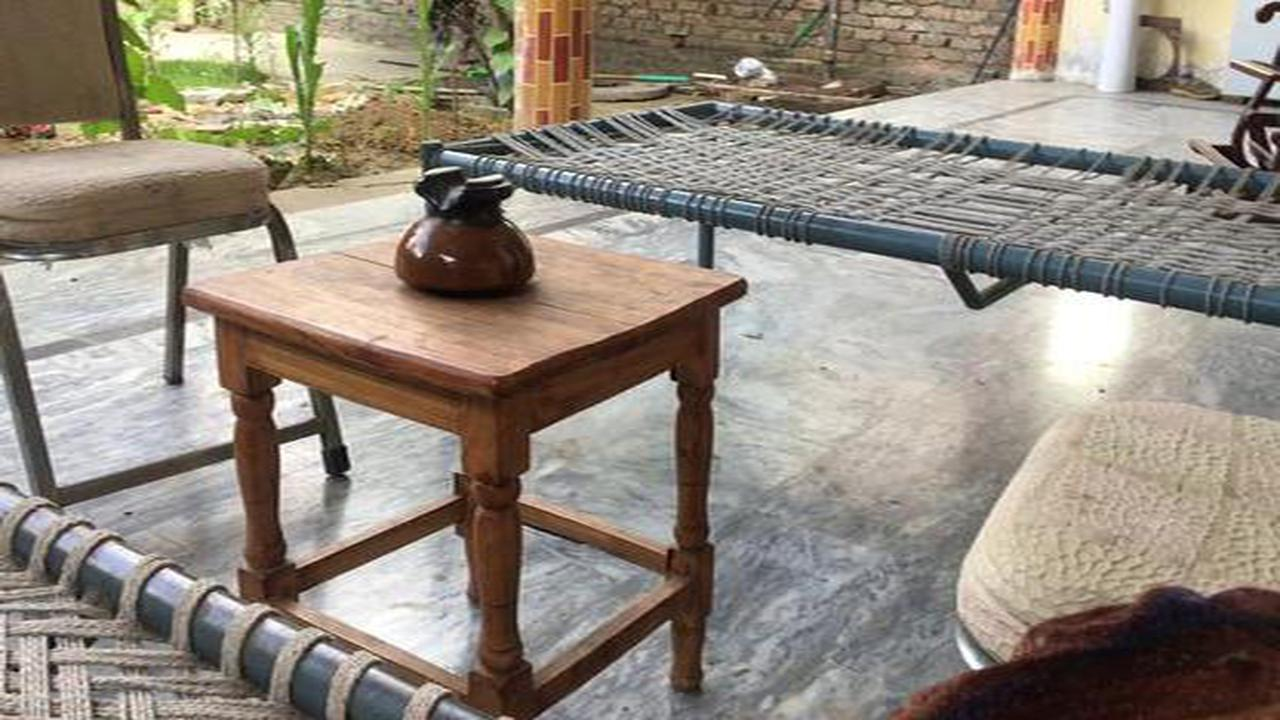insulator_pin: (385, 155, 557, 310)
